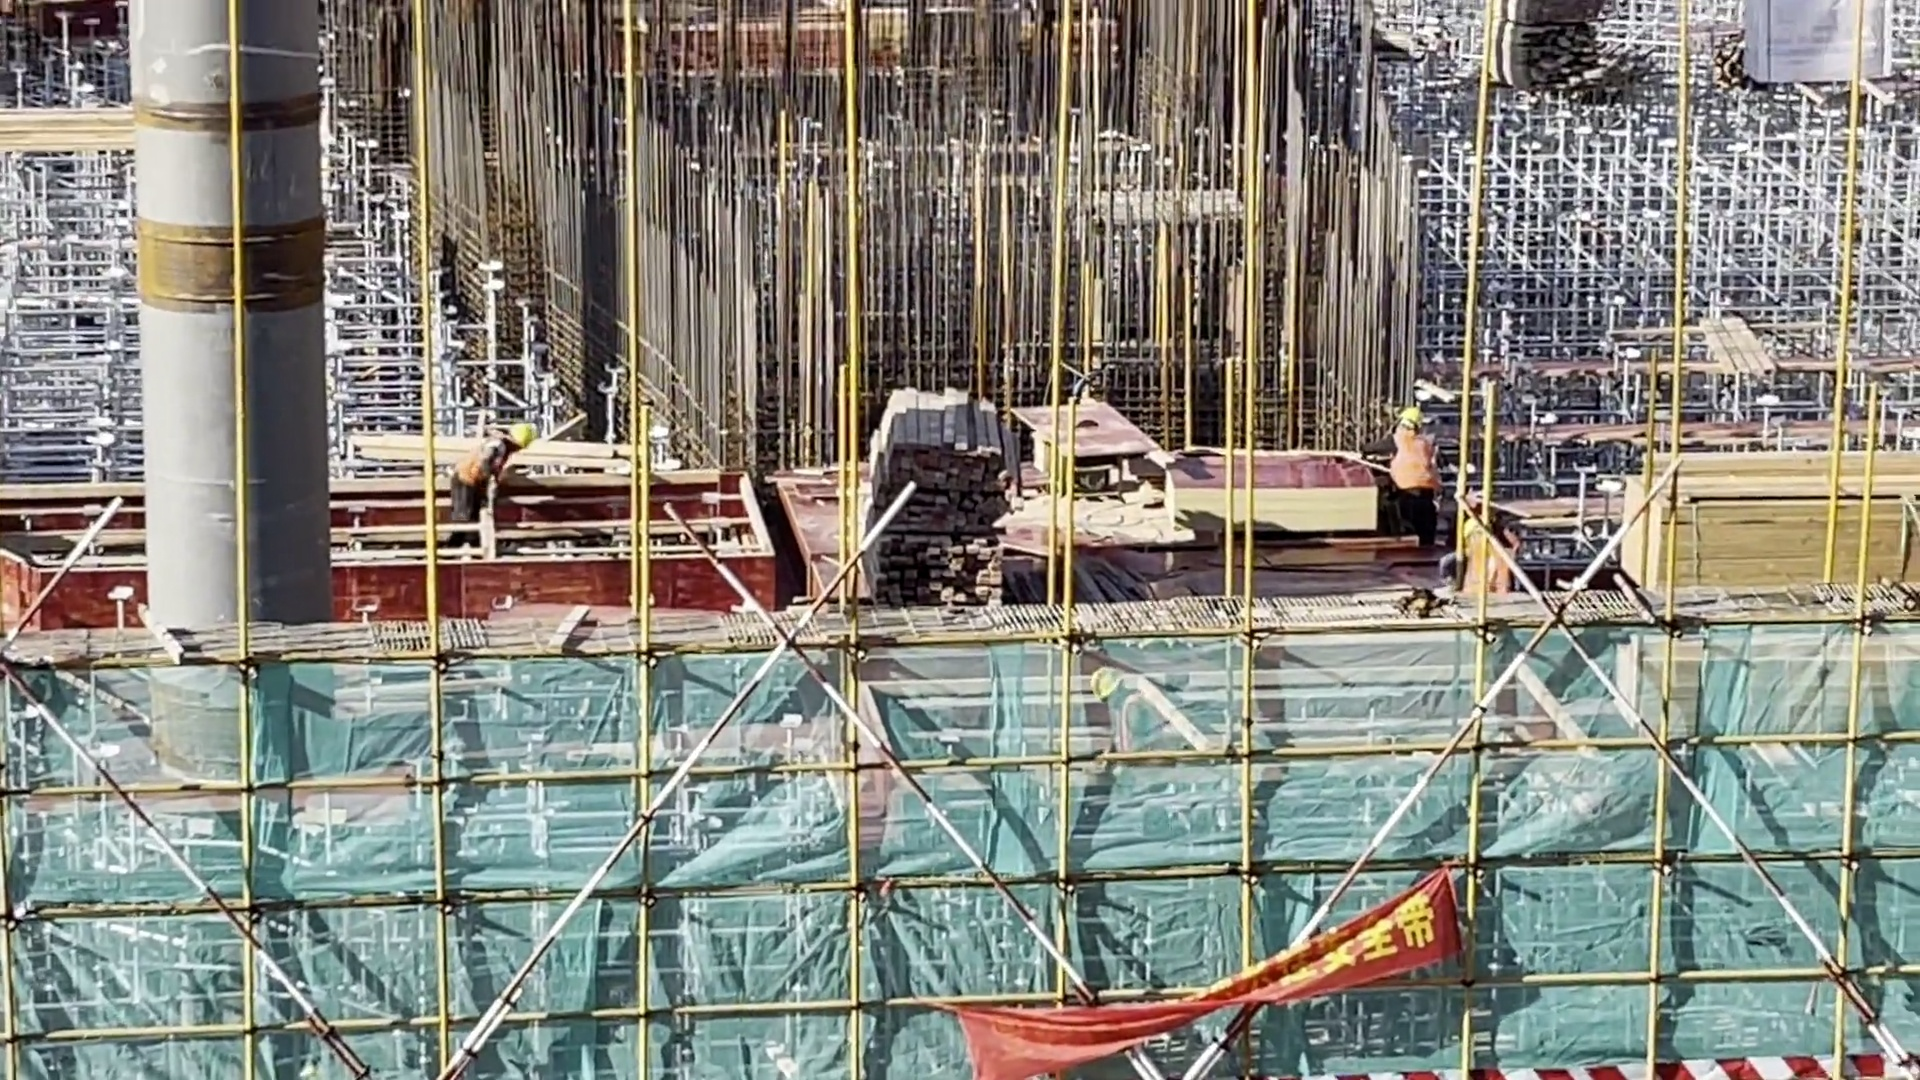helmet: (507, 415, 538, 456), (1393, 404, 1428, 432)
person: (444, 404, 536, 564), (1385, 393, 1459, 568)
slogan: (925, 860, 1485, 1075)
vest: (1392, 437, 1445, 495), (449, 442, 503, 497)
wood: (1614, 426, 1920, 608), (864, 365, 1022, 635)
